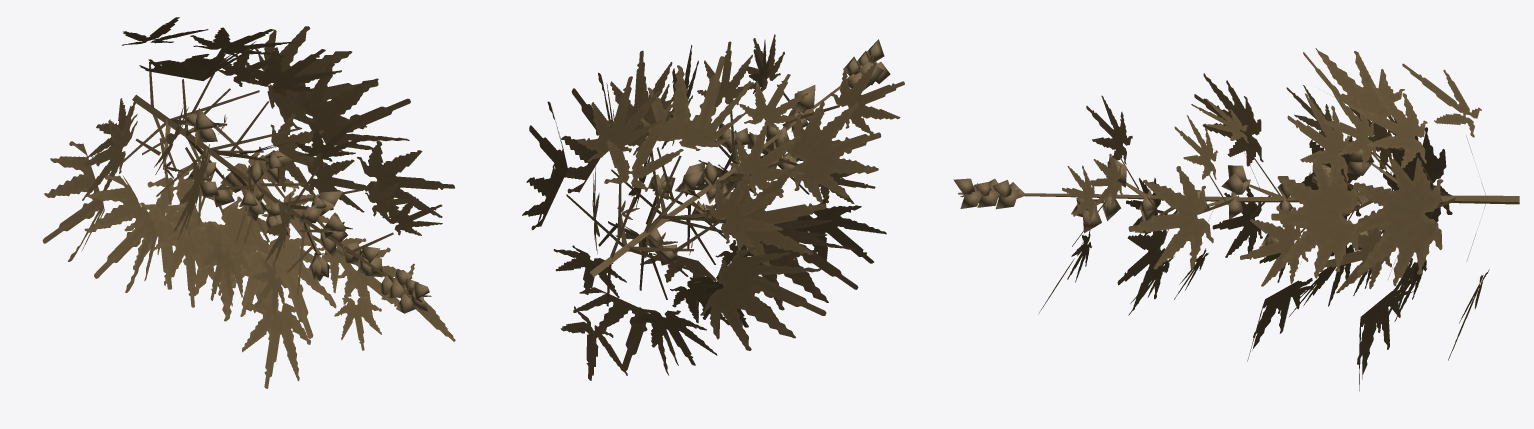
Rendered from p_male_landrace_flowering_c3_cards.obj.
The picture shows the model from 3 angles, left to right: view 1: azimuth 30°, elevation 25°; view 2: azimuth 150°, elevation 25°; view 3: azimuth 270°, elevation 25°; orthographic projection.
Bounding box in the file's own units: 1.73 × 1.53 × 2.28.
Materials: 1 (1 with a texture image).
